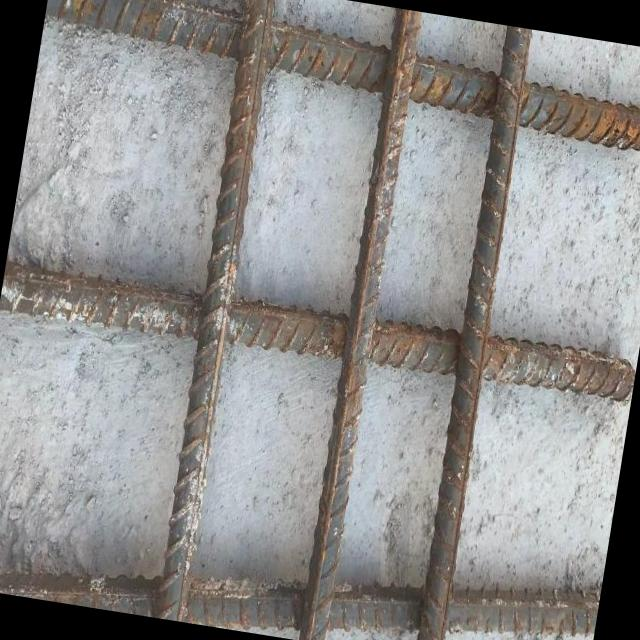ribbed bar: (0, 257, 638, 413), (38, 0, 640, 157), (0, 488, 601, 640), (403, 25, 541, 640), (148, 0, 284, 621), (294, 8, 425, 640)
